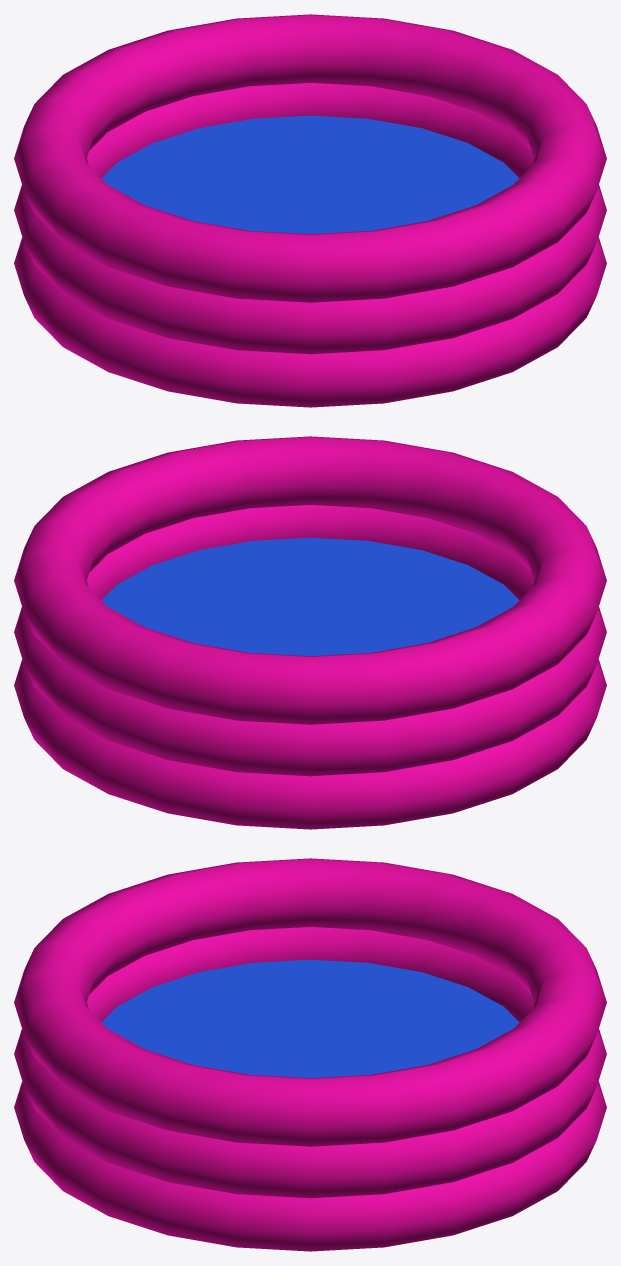
The model's file is Happiness Station.fbx.
3 views of the same model, one above another, from view 1: azimuth 30°, elevation 25°; view 2: azimuth 150°, elevation 25°; view 3: azimuth 270°, elevation 25° (orthographic).
Visible parts, largest first — view 1: Ring, Ring.002, Pool, Ring.001; view 2: Ring, Ring.002, Pool, Ring.001; view 3: Ring, Ring.002, Pool, Ring.001.
Boxes of the visible parts, <box> form: Ring: <box>14,14,606,302</box>; Ring.002: <box>14,83,606,354</box>; Pool: <box>101,115,519,234</box>; Ring.001: <box>14,237,606,407</box>; Ring: <box>14,436,606,724</box>; Ring.002: <box>14,505,606,776</box>; Pool: <box>101,537,519,656</box>; Ring.001: <box>14,659,606,829</box>; Ring: <box>14,858,606,1146</box>; Ring.002: <box>14,927,606,1198</box>; Pool: <box>101,959,519,1078</box>; Ring.001: <box>14,1081,606,1251</box>.
Size of the model in its own units: 342 by 109 by 342.
